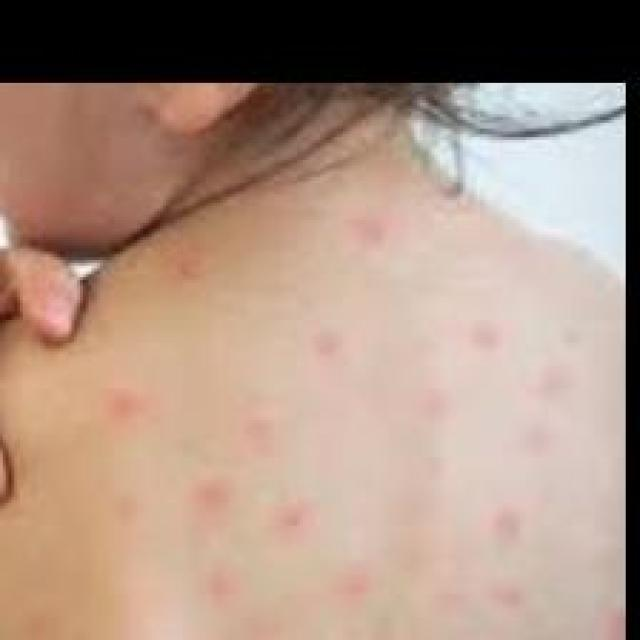others: (34, 177, 640, 640)
